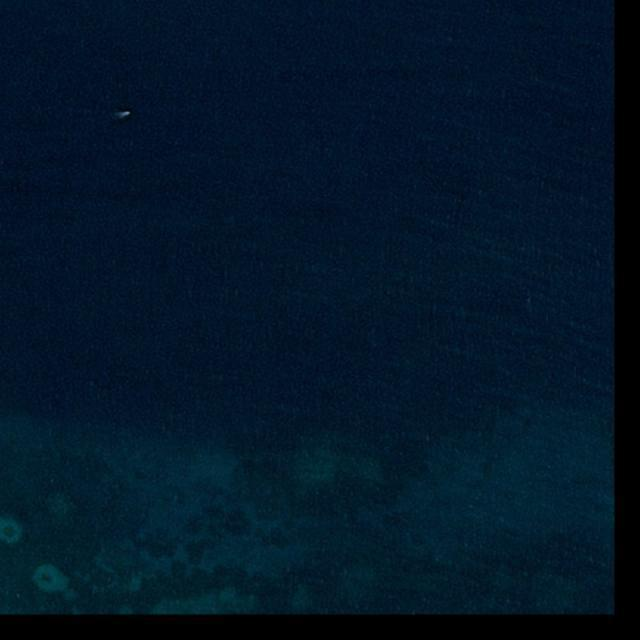ship: (126, 111, 130, 116)
